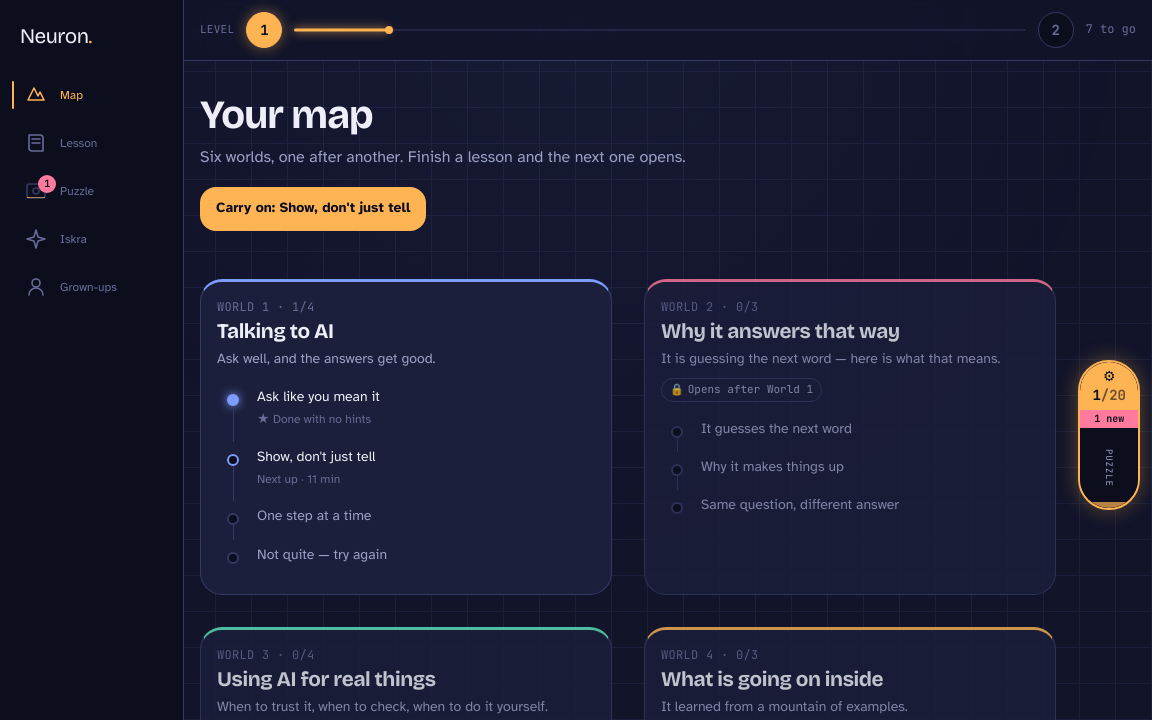
Test: Neuron app › raises the level and opens the next lesson after a clean run
Check: the text "★ Done with no hints" is shown, box [257, 412, 371, 426]
Click the link "Grown-ups" at (70, 287), box [24, 275, 117, 299]
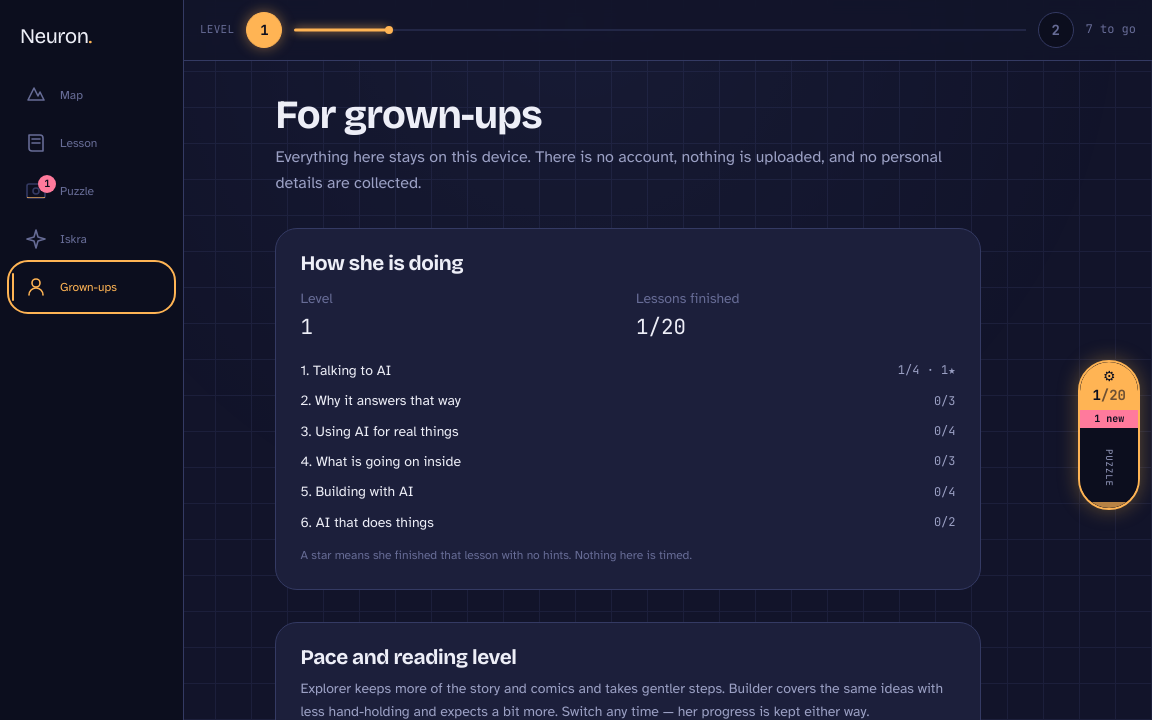
Check: the heading "For grown-ups" is shown, box [276, 91, 542, 139]
